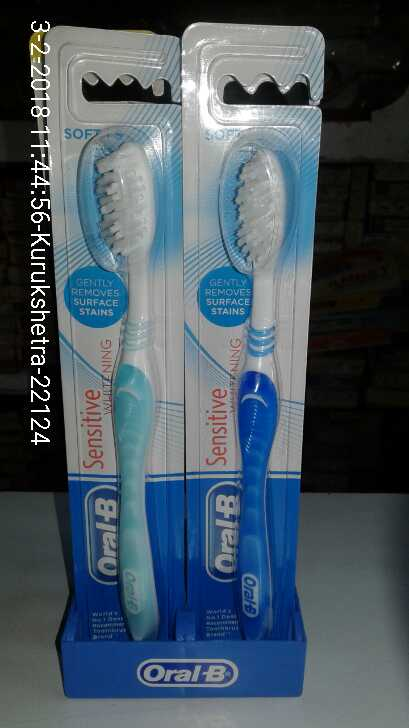oralb: (80, 130, 165, 637), (220, 149, 310, 620)
